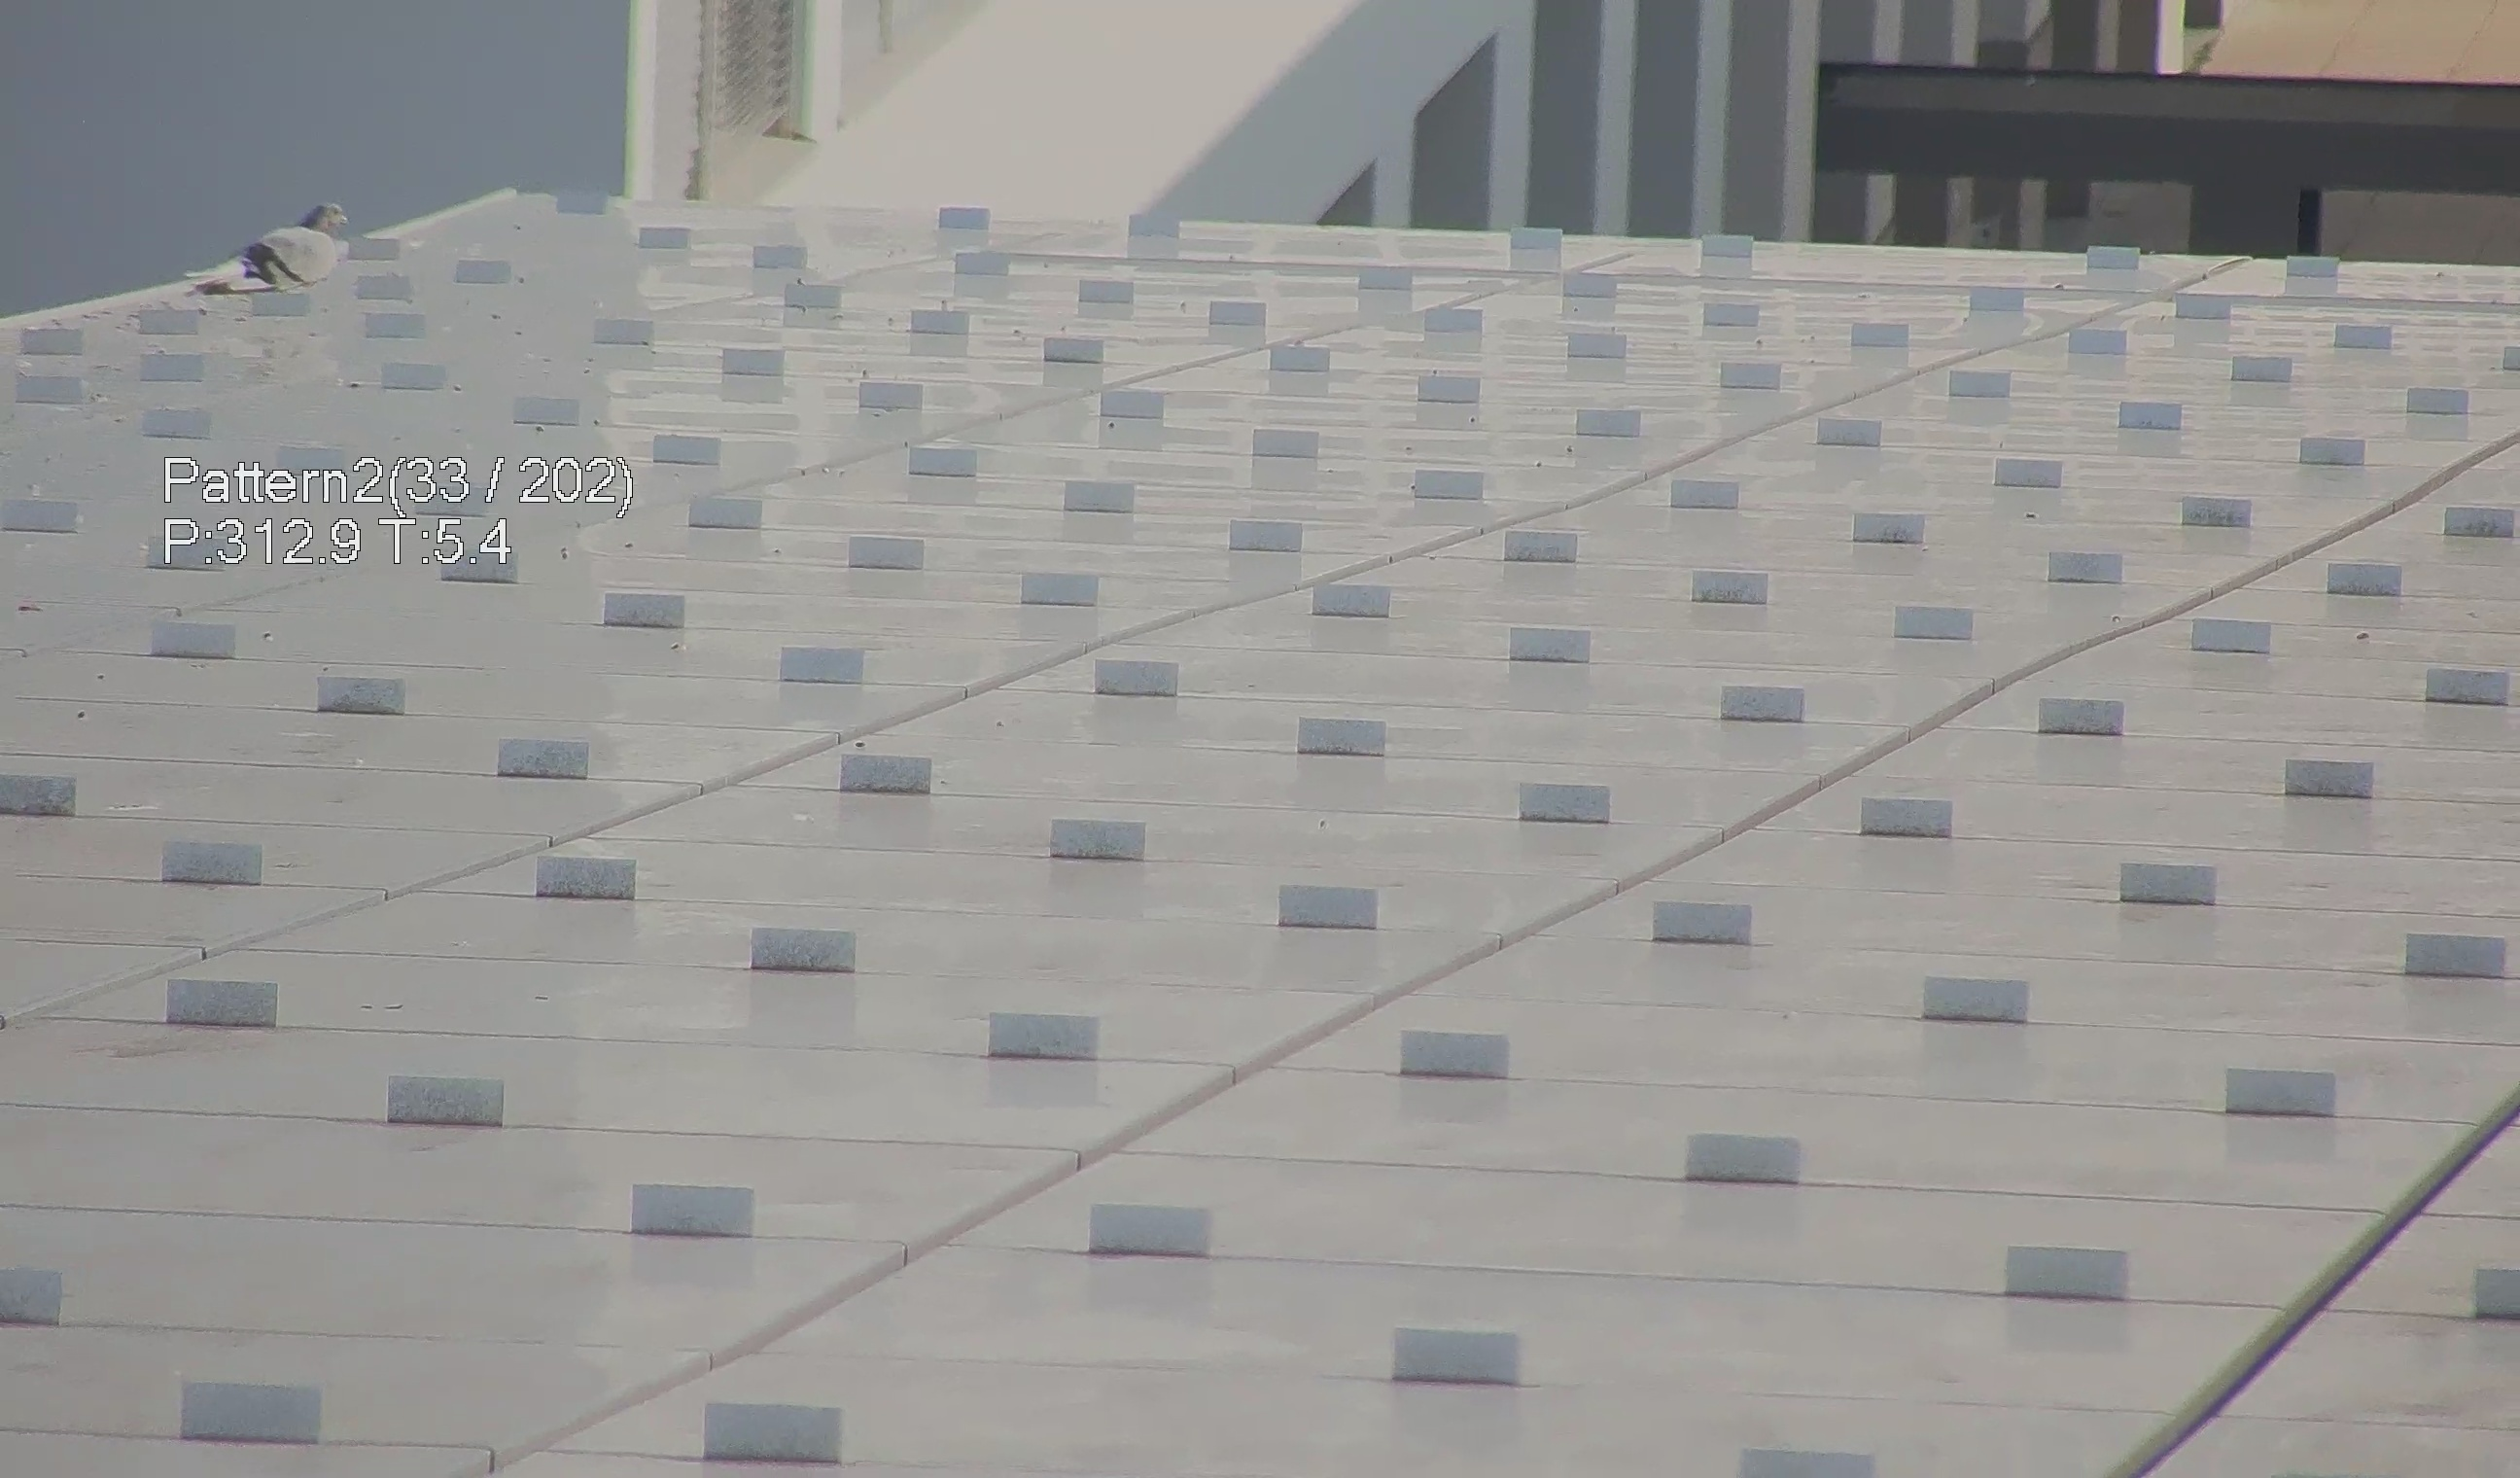Pigeon: (206, 195, 346, 290)
